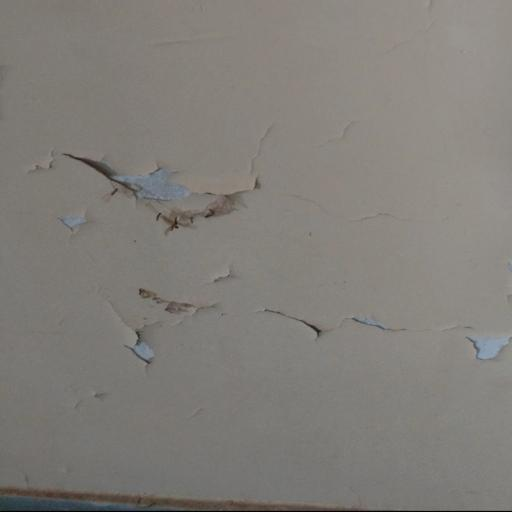peeling: (24, 130, 282, 384), (258, 287, 512, 369)
